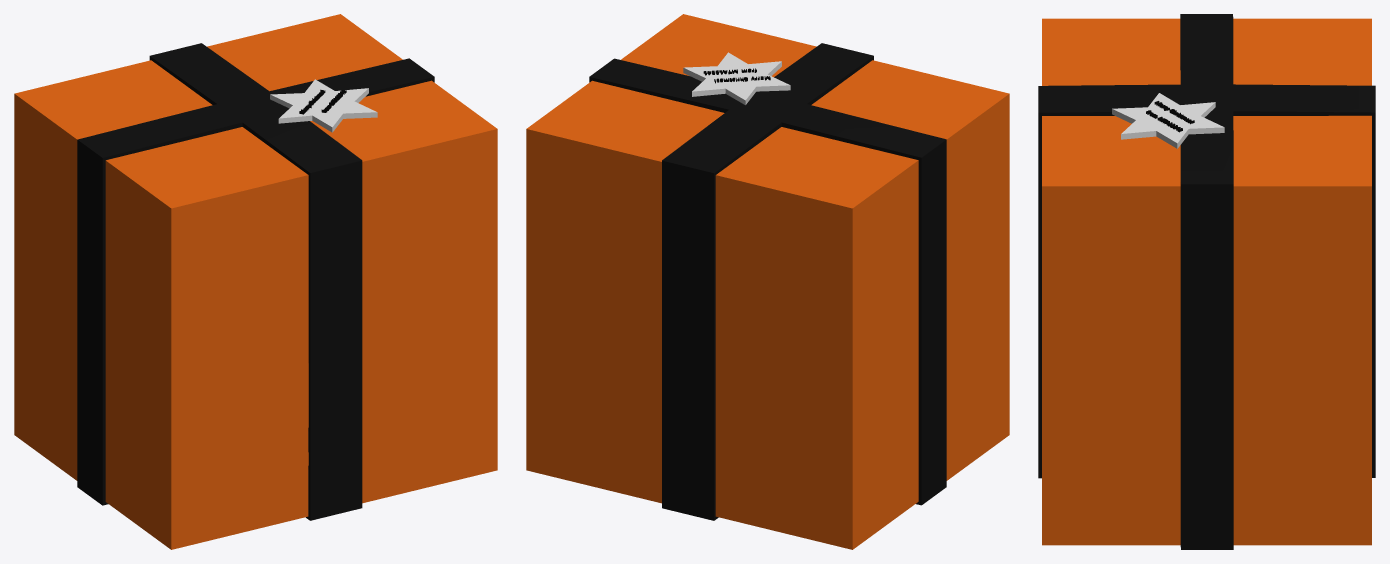
Rendered from present_large_orangeblack.FBX.
3 renders of one model, left to right at view 1: azimuth 30°, elevation 25°; view 2: azimuth 150°, elevation 25°; view 3: azimuth 270°, elevation 25°, orthographic. The views are drawn at different scales.
Parts seen in each view (by area): view 1: Box001, Object001, Star001; view 2: Box001, Object001, Star001; view 3: Box001, Object001, Star001, Text001.
Part boxes in pixels (box(x1,y1,x2,y2)): Box001: box(14, 14, 497, 549); Object001: box(77, 43, 434, 520); Star001: box(270, 79, 377, 132); Box001: box(526, 14, 1009, 549); Object001: box(589, 43, 946, 520); Star001: box(683, 52, 790, 105); Box001: box(1042, 18, 1371, 545); Object001: box(1038, 14, 1375, 549); Star001: box(1112, 93, 1224, 148); Text001: box(1146, 101, 1194, 132).
Bounding box in the file's own units: 122 × 126 × 102.
